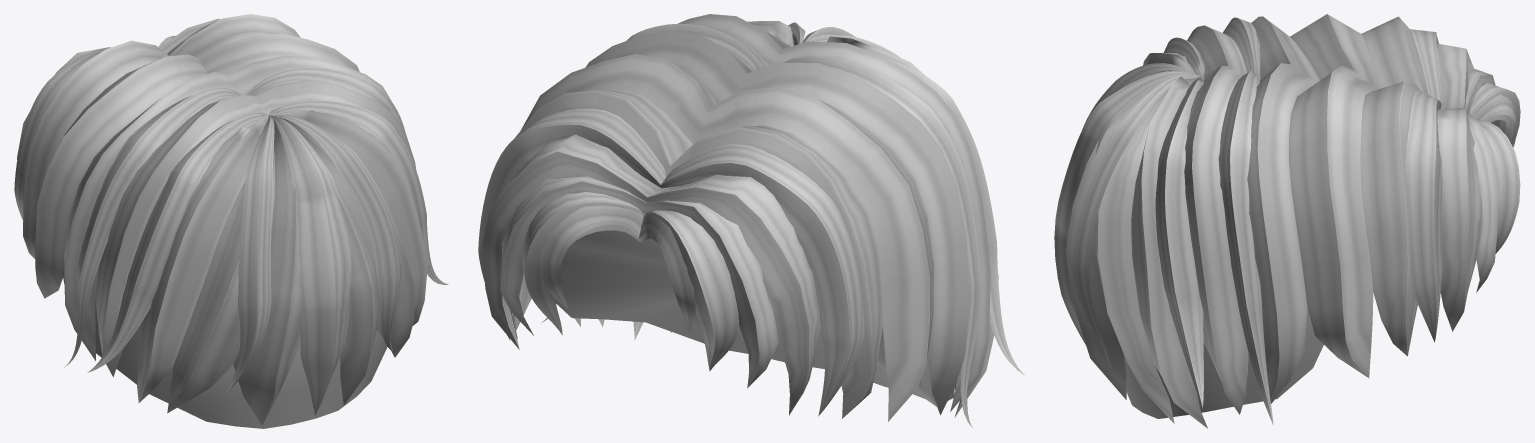
The model's file is 41-White-Middle-Part-14876610196.glb.
3 views of the same model, side by side, from view 1: azimuth 30°, elevation 25°; view 2: azimuth 150°, elevation 25°; view 3: azimuth 270°, elevation 25° (orthographic). The views are drawn at different scales.
Parts seen in each view (by area): view 1: 41-White-Middle-Part-14876610196; view 2: 41-White-Middle-Part-14876610196; view 3: 41-White-Middle-Part-14876610196.
Boxes of the visible parts, bbox=[...] form: 41-White-Middle-Part-14876610196: bbox=[14, 14, 448, 428]; 41-White-Middle-Part-14876610196: bbox=[478, 14, 1024, 427]; 41-White-Middle-Part-14876610196: bbox=[1054, 14, 1520, 428].
Size of the model in its own units: 1.5 by 1.21 by 1.52.
1 material, 1 textured.
